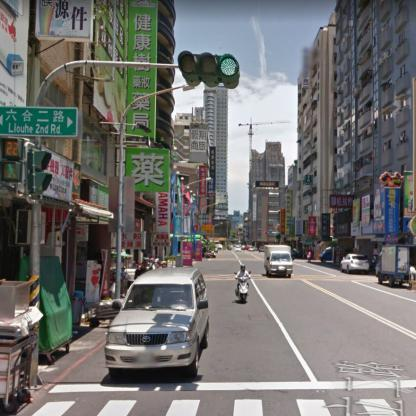Green Light: (177, 51, 238, 82)
